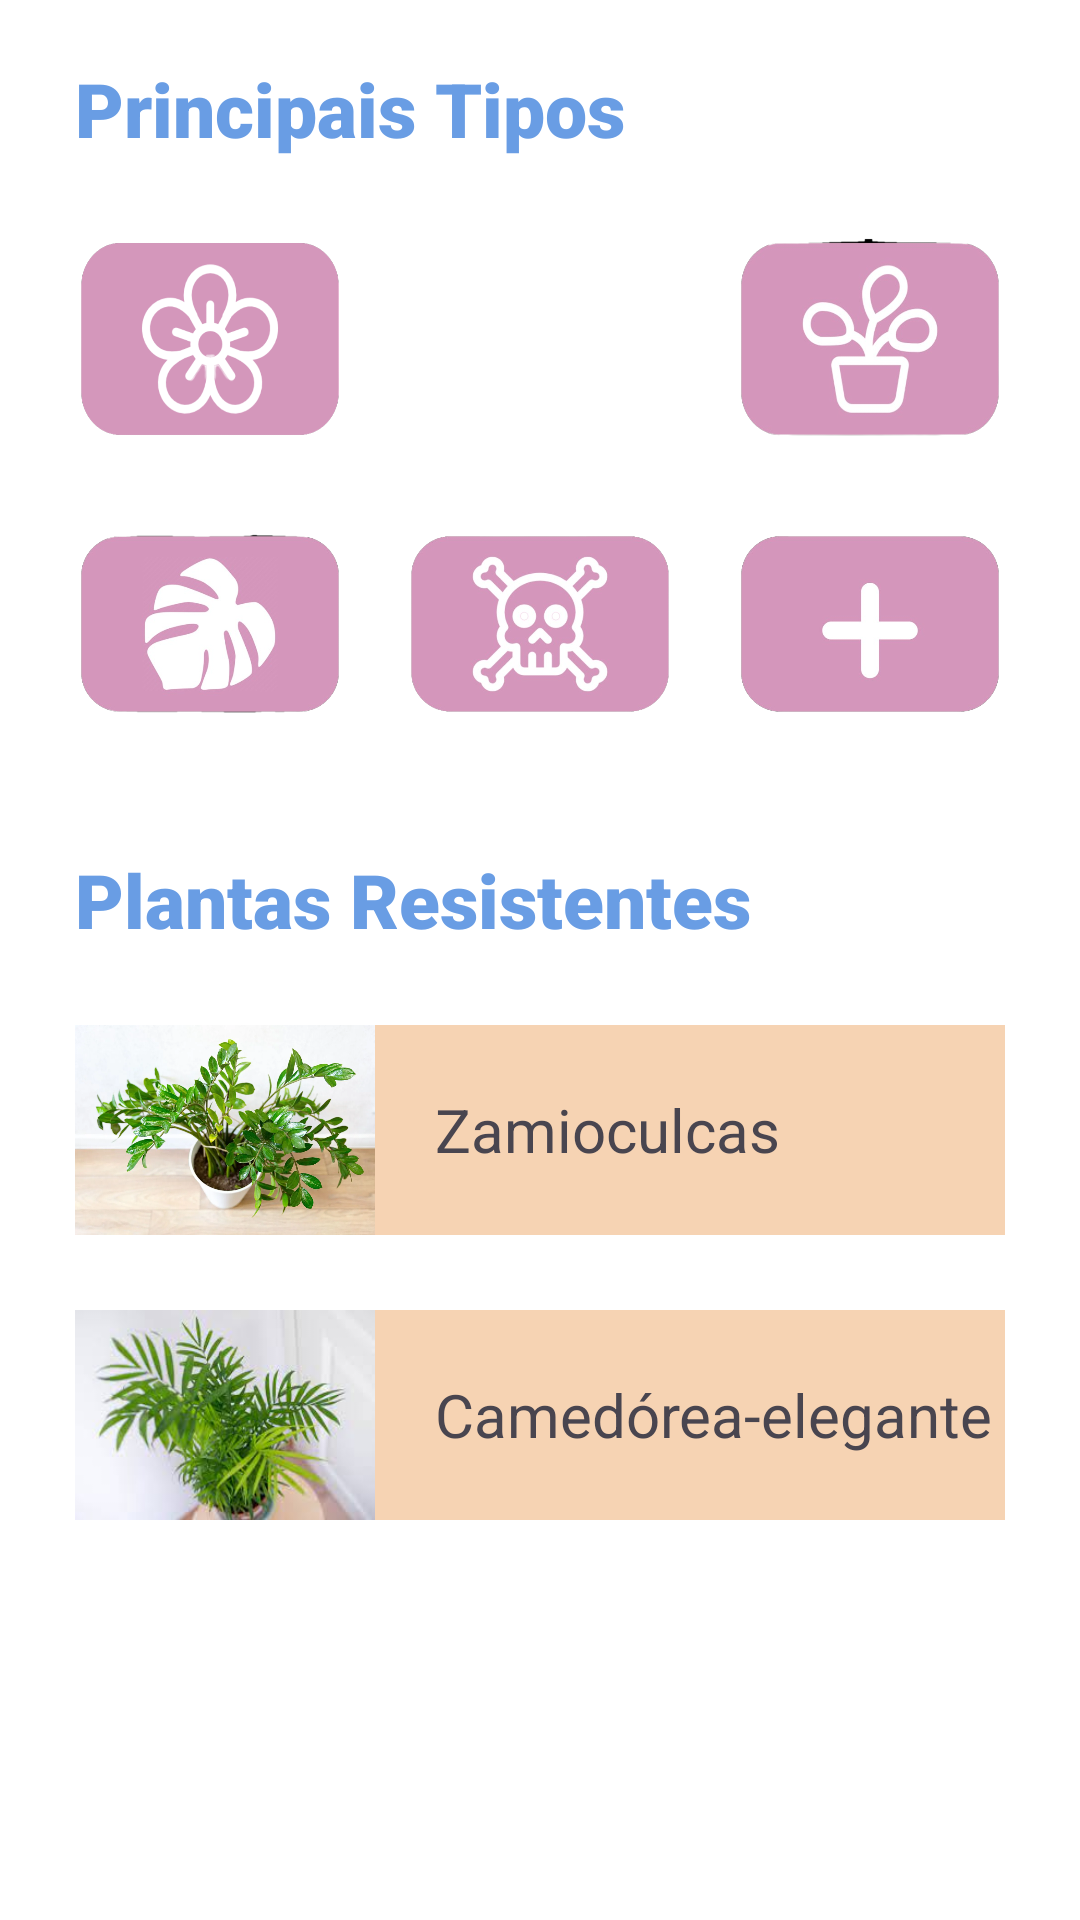

Locate icon controls on the screen. Image size 1080×1920, boxes as box=[x1, y1, x2, y2].
flores: box=[81, 243, 339, 435]
outras: box=[741, 536, 999, 712]
plantas exoticas: box=[81, 535, 339, 713]
plantas pequenas: box=[741, 239, 999, 436]
plantas venenosas: box=[411, 536, 669, 712]
